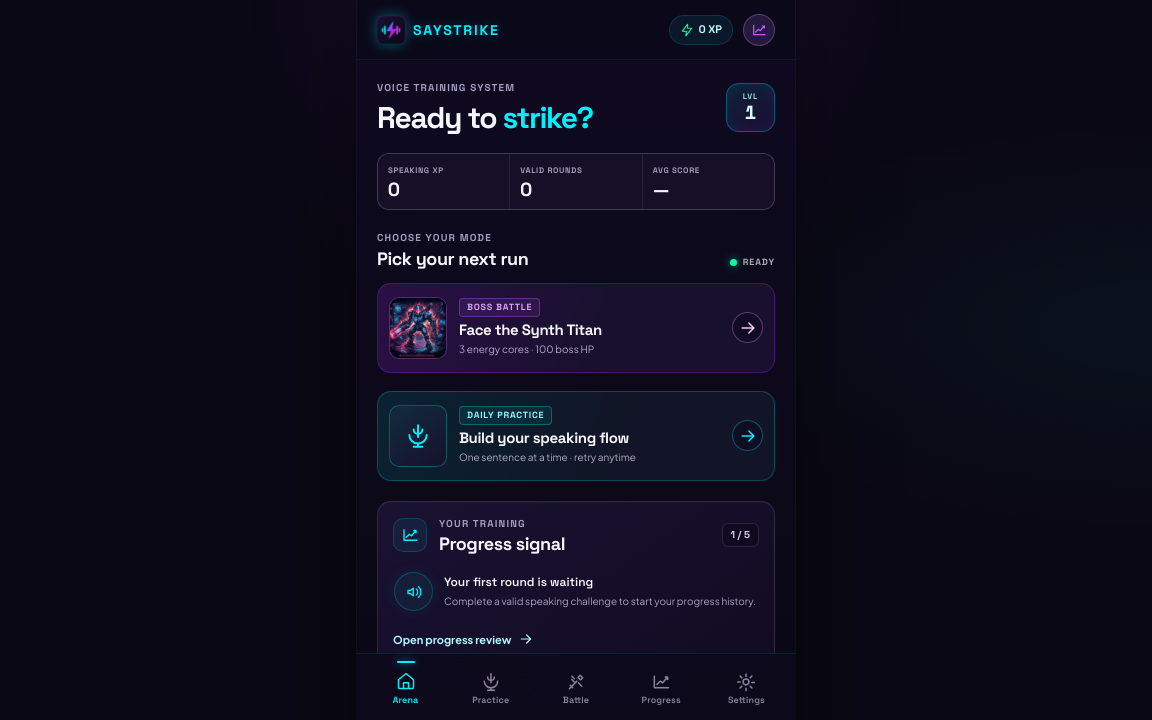
Scenario: SayStrike app shell and microphone recovery › explains microphone denial and does not upload audio
Click the button "Build your speaking flow": (576, 436) x1=377 y1=391 x2=775 y2=481
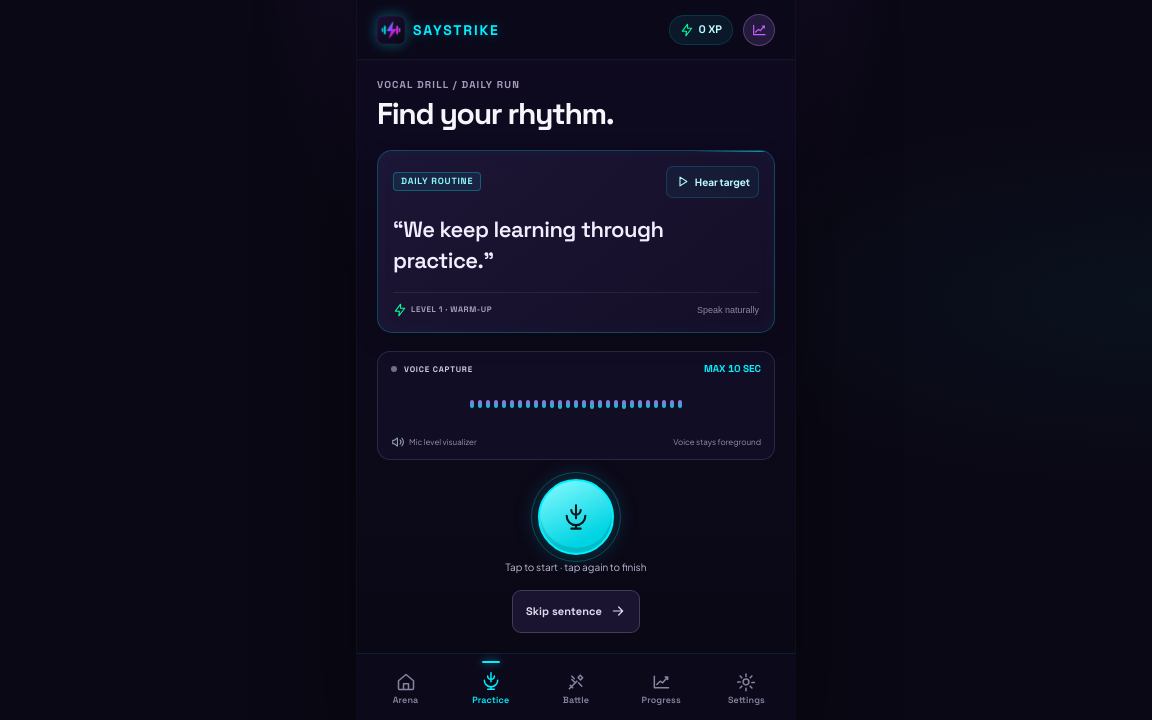
Click the button named "start recording": (576, 517) x1=538 y1=479 x2=614 y2=555
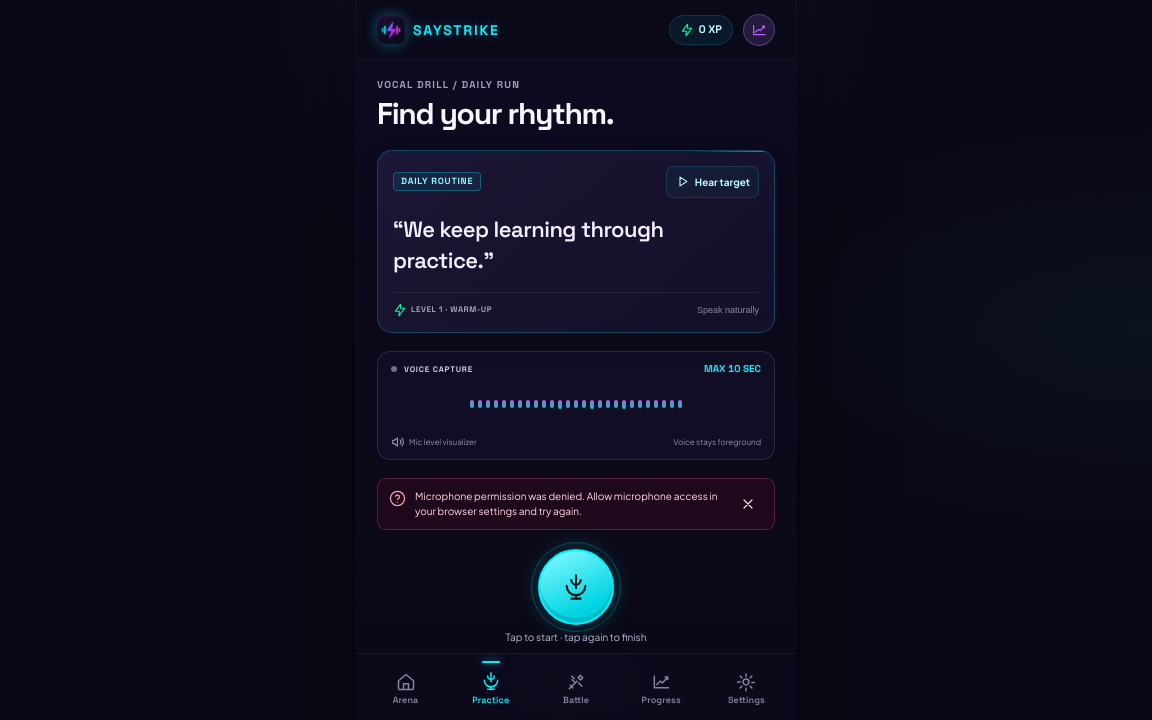
Expected: the message shows "Microphone permission was denied", x1=415 y1=490 x2=718 y2=517
